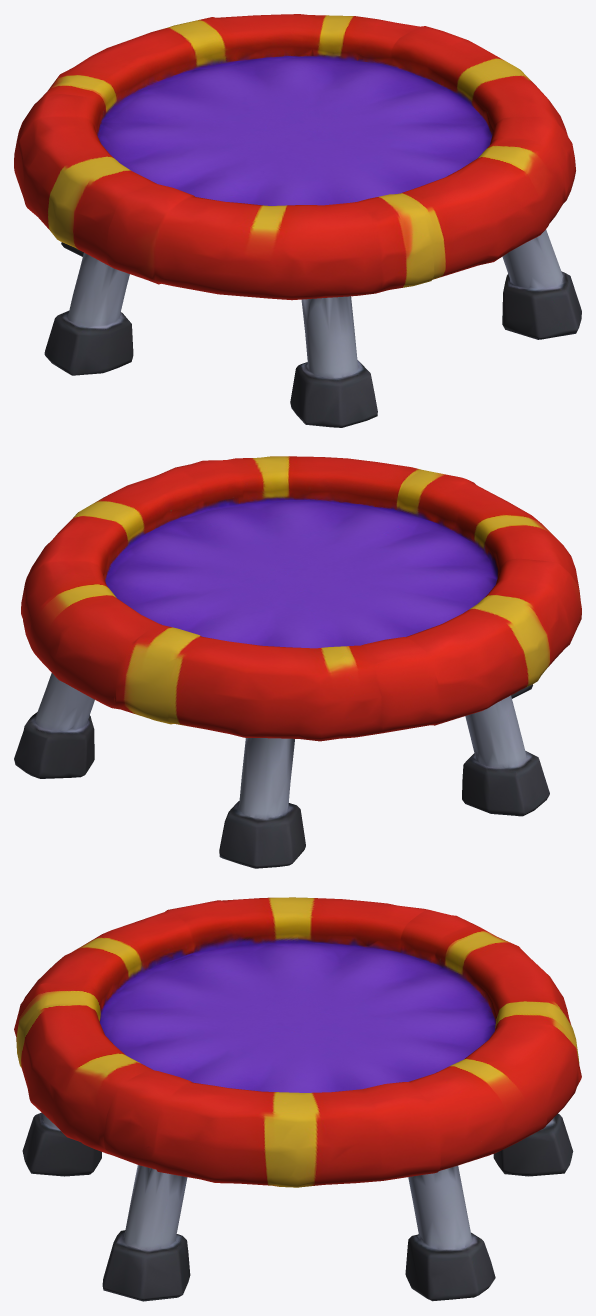
File: trampoline.glb
3 views of the same model, one above another, from view 1: azimuth 30°, elevation 25°; view 2: azimuth 150°, elevation 25°; view 3: azimuth 270°, elevation 25° (orthographic). The views are drawn at different scales.
Parts seen in each view (by area): view 1: tripo_node_9a0873bc-37ee-40c8-acb9-95369a38c6a9; view 2: tripo_node_9a0873bc-37ee-40c8-acb9-95369a38c6a9; view 3: tripo_node_9a0873bc-37ee-40c8-acb9-95369a38c6a9.
Part boxes in pixels (bbox=[...]): tripo_node_9a0873bc-37ee-40c8-acb9-95369a38c6a9: bbox=[14, 14, 581, 427]; tripo_node_9a0873bc-37ee-40c8-acb9-95369a38c6a9: bbox=[14, 456, 581, 868]; tripo_node_9a0873bc-37ee-40c8-acb9-95369a38c6a9: bbox=[14, 897, 581, 1301].
Size of the model in its own units: 0.9917 by 0.3857 by 1.
1 material, 1 textured.
